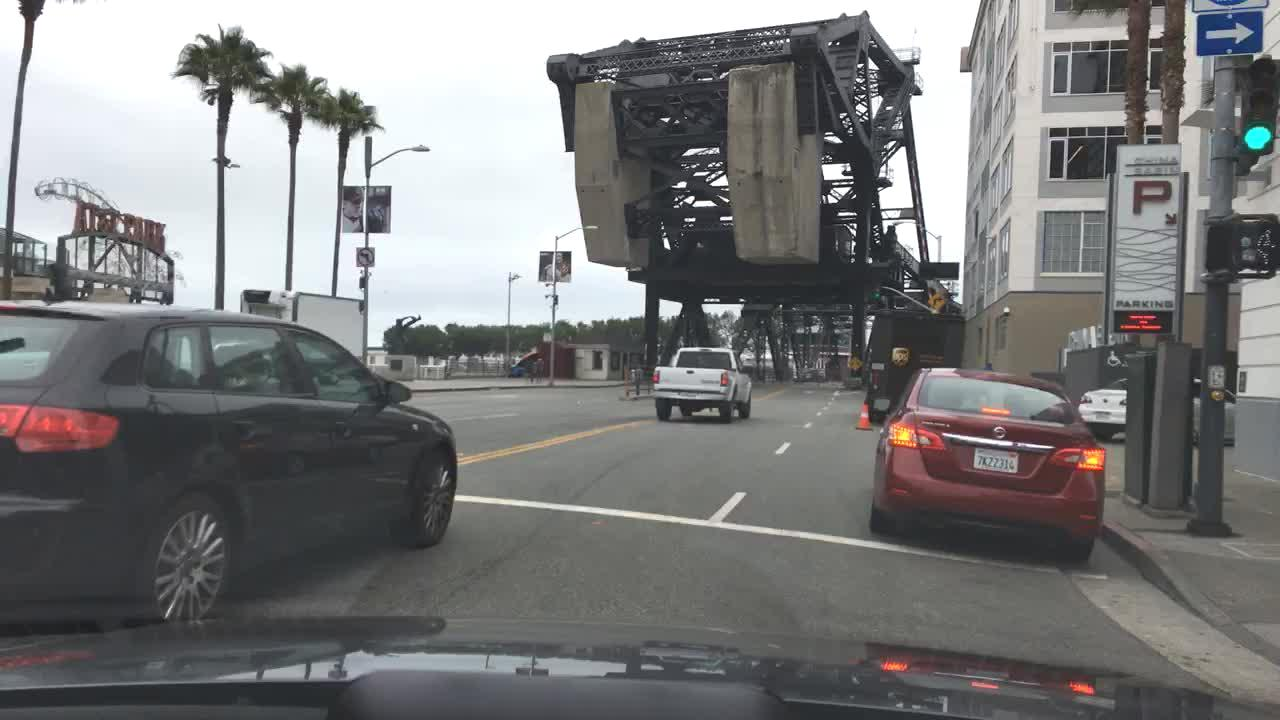Nissan: (991, 423, 1010, 440)
